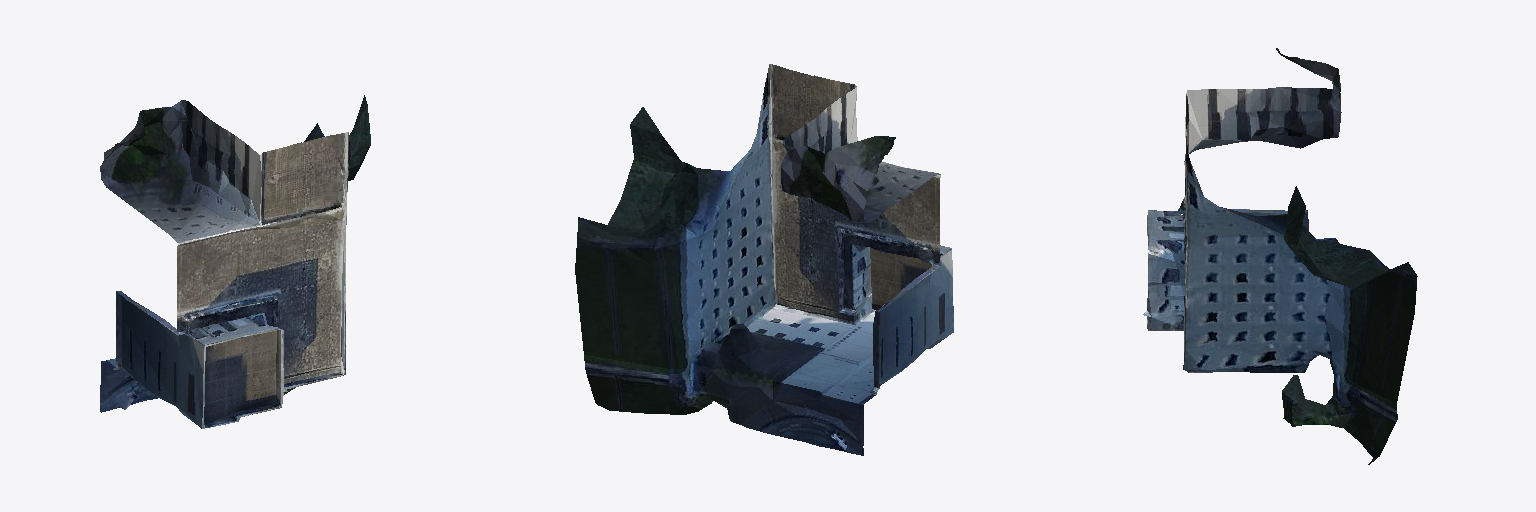
The picture shows the model from 3 angles: view 1: azimuth 30°, elevation 25°; view 2: azimuth 150°, elevation 25°; view 3: azimuth 270°, elevation 25°; orthographic projection.
Parts seen in each view (by area): view 1: obj_0; view 2: obj_0; view 3: obj_0.
Boxes of the visible parts, <box> form: obj_0: <box>100,95,370,428</box>; obj_0: <box>575,64,953,455</box>; obj_0: <box>1143,48,1417,464</box>.
Size of the model in its own units: 40.13 by 45.12 by 38.04.
1 materials, 1 textured.